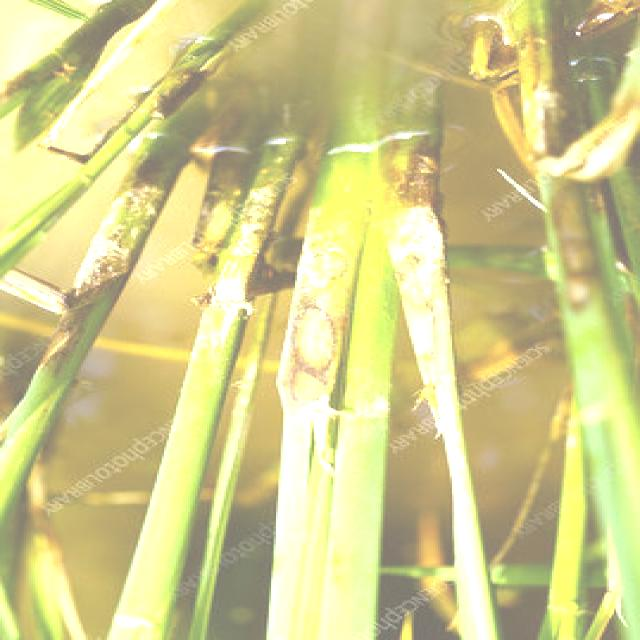Bacterial_Leaf_Blight: (289, 250, 349, 410), (390, 250, 445, 417)
